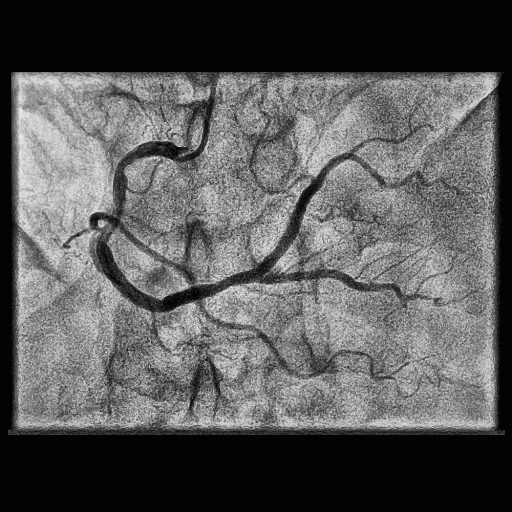pborca: (257, 149, 356, 269)
pda: (263, 270, 441, 301)
rca: (96, 141, 268, 312)
